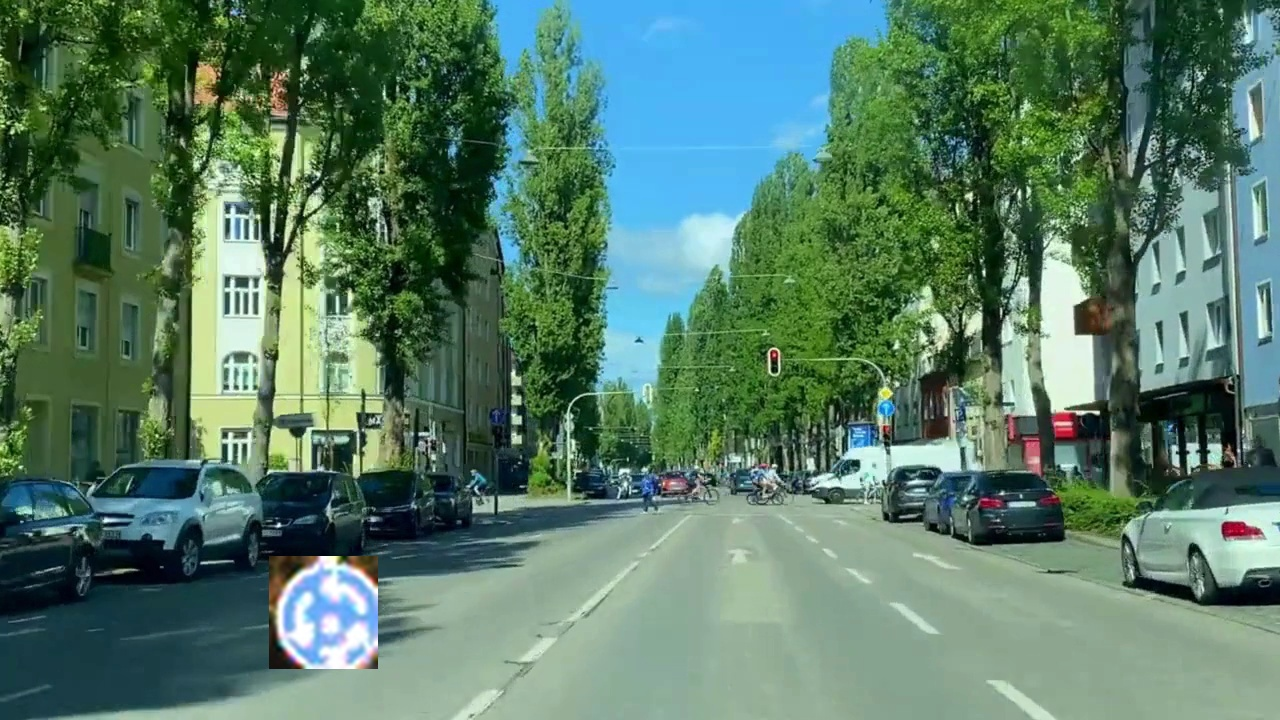Roundabout: (269, 556, 378, 669)
